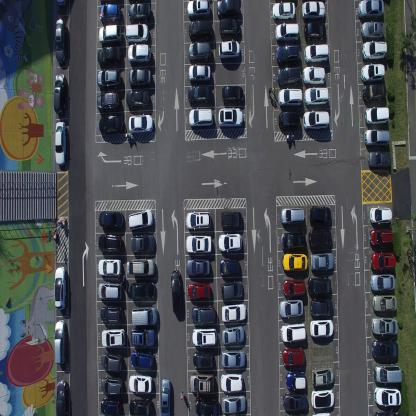car: (373, 363, 402, 385), (54, 264, 68, 309), (371, 338, 399, 360), (281, 251, 307, 274), (188, 107, 214, 130), (170, 268, 183, 314), (128, 208, 154, 231), (189, 371, 215, 394), (217, 107, 244, 129), (54, 17, 66, 65), (128, 113, 154, 135), (362, 40, 388, 62), (303, 42, 329, 64), (275, 44, 301, 66), (53, 71, 66, 115), (54, 318, 66, 365), (309, 318, 334, 340), (98, 231, 123, 253), (130, 326, 155, 348), (369, 227, 394, 249), (371, 250, 396, 272), (187, 82, 212, 104), (221, 302, 247, 323), (303, 109, 329, 130), (96, 68, 122, 89), (374, 387, 401, 407), (54, 120, 66, 165), (357, 0, 385, 19), (188, 40, 211, 63), (302, 64, 326, 86), (278, 86, 302, 108), (127, 42, 151, 64), (98, 23, 122, 45), (96, 90, 120, 112), (283, 392, 308, 413), (101, 327, 126, 348), (191, 304, 216, 325), (364, 105, 389, 126), (301, 0, 326, 21), (186, 233, 212, 253), (99, 209, 125, 229), (130, 233, 156, 253), (185, 210, 211, 230), (372, 316, 398, 336), (364, 127, 390, 147), (303, 86, 329, 106), (131, 306, 158, 325), (101, 350, 124, 372), (222, 324, 245, 346), (218, 231, 242, 252), (100, 115, 124, 136), (130, 349, 154, 370), (368, 150, 392, 171), (362, 82, 386, 103), (275, 22, 299, 43), (188, 19, 212, 40), (97, 45, 121, 66), (281, 323, 306, 343), (130, 257, 155, 277), (361, 20, 386, 40), (130, 280, 156, 299), (55, 378, 68, 416), (369, 272, 395, 291), (309, 206, 331, 228), (308, 228, 331, 249), (99, 2, 122, 23), (279, 298, 303, 318), (310, 253, 334, 273), (280, 206, 304, 226), (128, 372, 152, 392), (222, 394, 246, 414), (272, 0, 296, 20), (277, 66, 301, 86), (126, 89, 150, 109), (128, 66, 152, 86), (125, 21, 149, 41), (221, 347, 246, 366), (280, 232, 306, 250), (220, 209, 242, 230), (101, 375, 123, 396), (304, 20, 326, 41), (218, 39, 240, 60), (218, 16, 240, 37), (312, 388, 335, 408), (307, 276, 330, 296), (220, 372, 243, 392), (221, 280, 244, 300), (221, 84, 244, 104), (127, 1, 150, 21), (98, 257, 122, 276), (282, 347, 306, 366), (160, 377, 172, 415), (100, 305, 124, 324), (98, 281, 122, 300), (186, 257, 210, 276), (360, 62, 384, 81), (186, 0, 210, 19), (192, 328, 217, 346), (312, 366, 334, 386), (310, 299, 333, 318), (282, 278, 305, 297), (196, 396, 219, 415), (369, 205, 392, 224), (128, 397, 152, 415), (373, 294, 397, 312), (286, 370, 307, 390), (219, 256, 240, 276), (100, 396, 122, 415), (192, 350, 214, 369), (188, 62, 210, 81), (278, 110, 301, 128), (188, 282, 210, 300), (216, 0, 240, 15), (374, 409, 399, 415), (55, 0, 67, 8), (311, 411, 332, 415)
